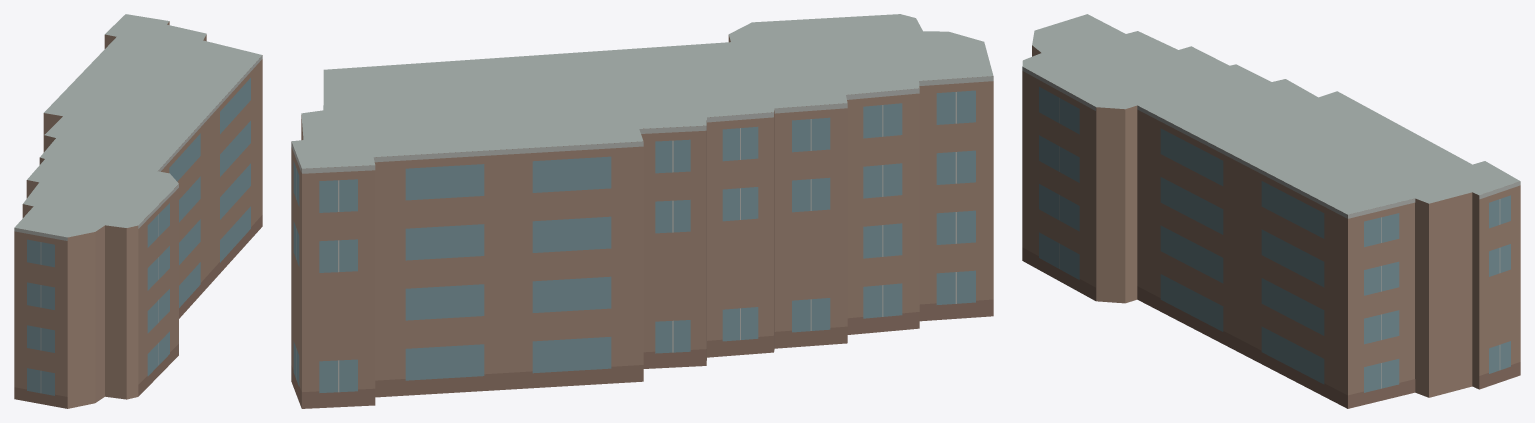
File: survey-upis-32463636.glb
3 views of the same model, side by side, from view 1: azimuth 30°, elevation 25°; view 2: azimuth 150°, elevation 25°; view 3: azimuth 270°, elevation 25° (orthographic). The views are drawn at different scales.
Parts seen in each view (by area): view 1: survey-upis-32463636.tmp; view 2: survey-upis-32463636.tmp; view 3: survey-upis-32463636.tmp.
Part boxes in pixels (<box>): survey-upis-32463636.tmp: <box>14,14,262,408</box>; survey-upis-32463636.tmp: <box>291,14,993,408</box>; survey-upis-32463636.tmp: <box>1022,14,1520,408</box>.
Size of the model in its own units: 25.28 by 11.4 by 26.51.
